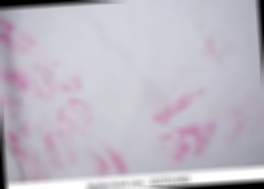lipstick: (6, 112, 134, 185), (157, 123, 219, 166), (148, 90, 215, 124), (50, 95, 95, 139), (38, 60, 84, 96), (0, 19, 34, 56), (0, 63, 37, 95), (232, 99, 260, 139), (202, 36, 226, 67)
